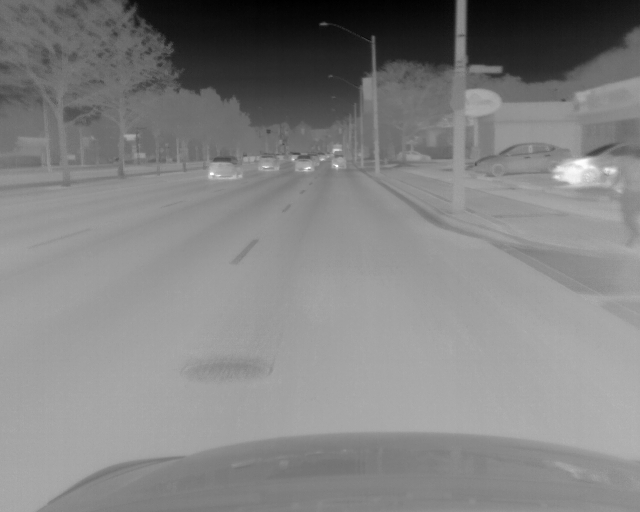car: (554, 142, 635, 187), (473, 142, 573, 177), (208, 155, 243, 182), (395, 150, 432, 164), (256, 153, 280, 173), (294, 155, 313, 172), (331, 152, 346, 171), (312, 155, 320, 167), (318, 153, 327, 162), (290, 152, 300, 160)
people: (619, 152, 640, 250)
